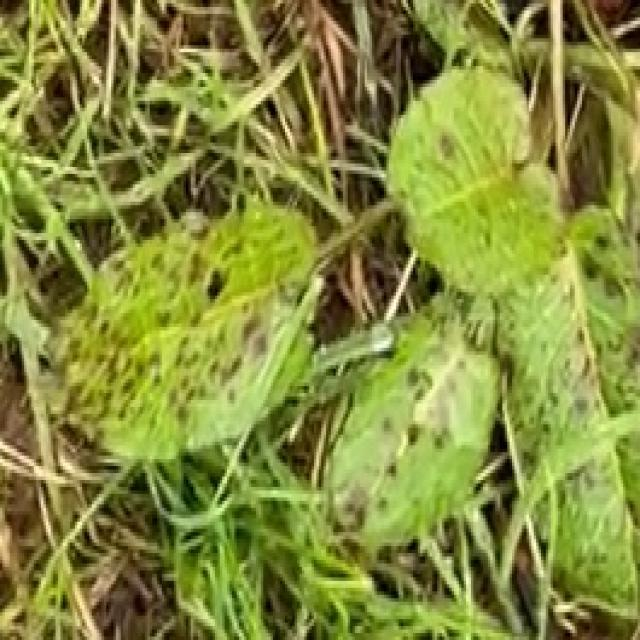organic waste: (60, 7, 640, 546)
